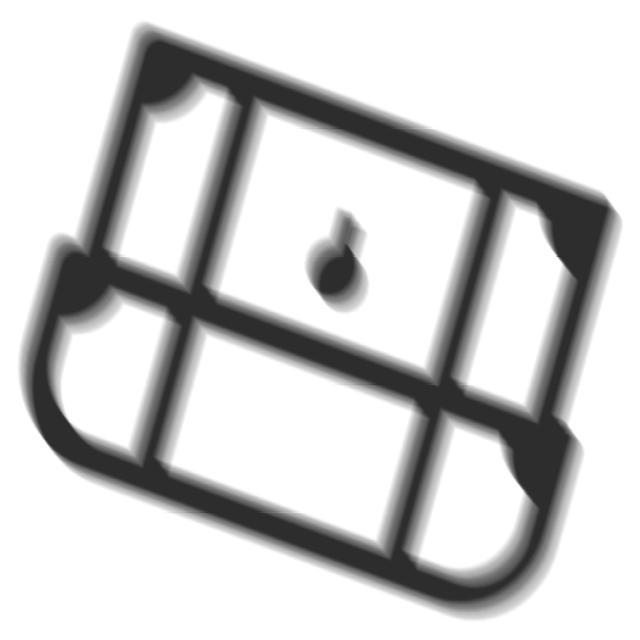treasure_box: (10, 19, 631, 632)
